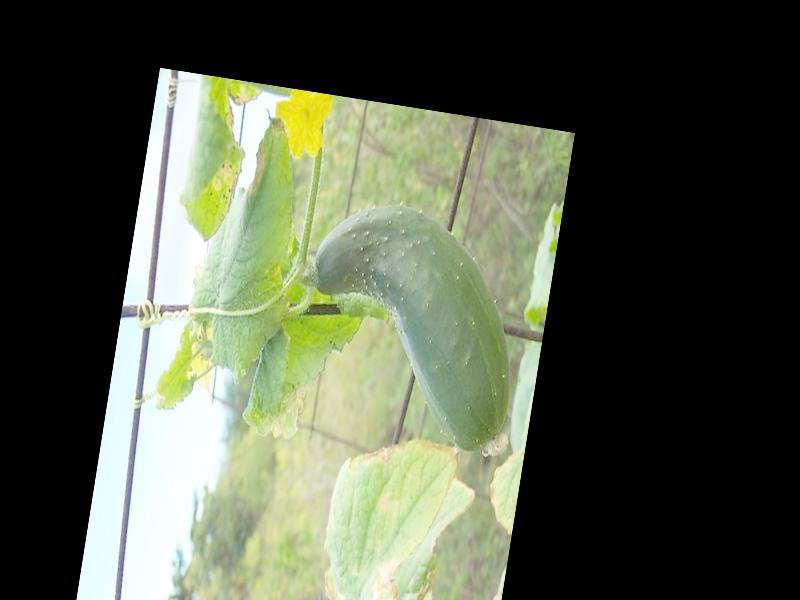Cucumber: (286, 195, 536, 459)
